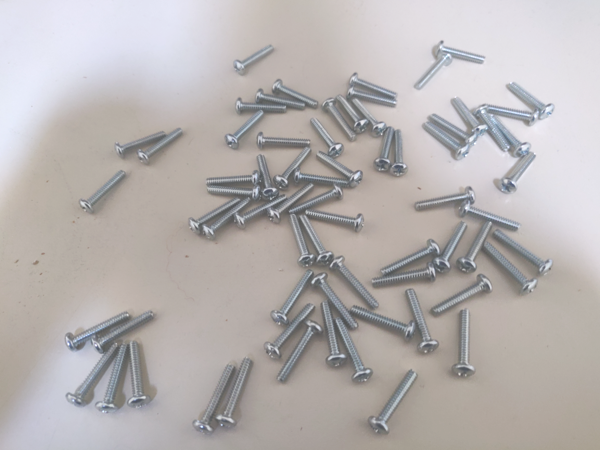longscrew: (263, 303, 317, 363), (273, 321, 321, 387), (494, 224, 552, 277), (69, 344, 117, 407), (373, 374, 423, 434), (431, 273, 496, 318), (270, 268, 317, 328), (195, 359, 232, 432), (220, 356, 257, 428), (400, 287, 439, 355), (92, 309, 153, 352), (484, 241, 536, 291), (66, 307, 127, 349), (315, 273, 359, 327), (77, 169, 127, 214), (338, 317, 372, 383), (204, 197, 255, 241), (189, 195, 240, 239), (334, 256, 377, 308), (379, 236, 439, 273), (352, 305, 415, 339), (457, 199, 521, 231), (237, 189, 289, 228), (458, 221, 494, 273), (99, 345, 125, 414), (436, 222, 469, 276), (422, 124, 471, 160), (127, 342, 152, 411), (512, 79, 553, 120), (138, 128, 181, 166), (318, 151, 366, 185), (271, 182, 312, 221), (495, 113, 532, 156), (302, 216, 335, 264), (453, 306, 474, 381), (227, 44, 276, 76), (427, 115, 479, 145), (290, 185, 342, 215), (373, 264, 442, 286), (453, 95, 489, 137), (413, 189, 475, 213), (113, 130, 171, 155), (501, 154, 539, 192), (350, 96, 387, 135), (333, 93, 370, 132), (321, 98, 358, 137), (479, 105, 509, 153), (346, 71, 399, 98), (345, 84, 398, 111), (226, 111, 264, 148), (307, 117, 343, 156), (278, 147, 312, 188), (301, 209, 366, 230), (322, 301, 341, 372), (483, 102, 541, 124), (290, 217, 314, 268), (253, 86, 304, 110), (417, 55, 453, 88), (275, 80, 319, 107), (440, 43, 487, 63), (390, 131, 408, 182), (376, 126, 394, 177), (257, 151, 275, 199), (233, 99, 289, 114), (293, 173, 352, 187), (202, 185, 262, 198), (202, 173, 262, 185), (251, 135, 315, 146)
